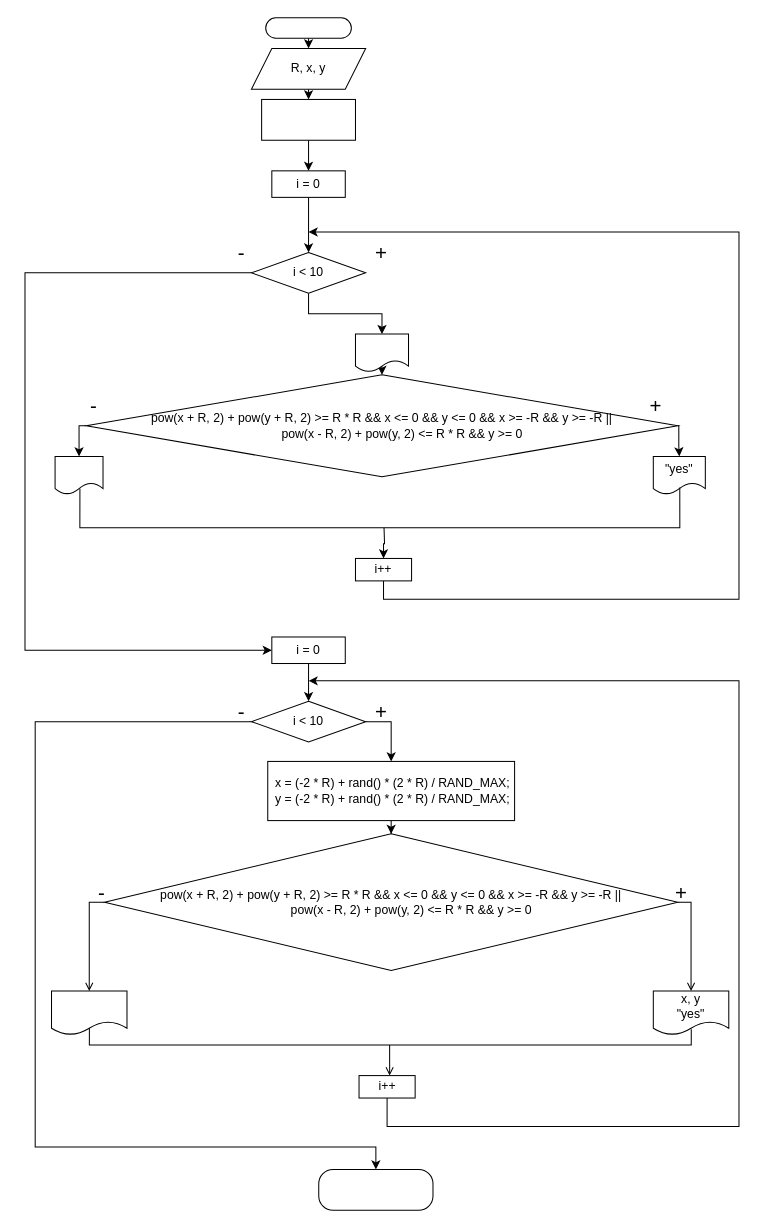
Image size: 765x1228. Some labels were removed from this diagram. The centre of each missing label's shape, as x and y in pixels:
"no": point 78,474
srand(time(0)): point 308,119
x, y: point 381,352
x, y "no": point 88,1012
Кінець: point 375,1189
Початок: point 308,27
